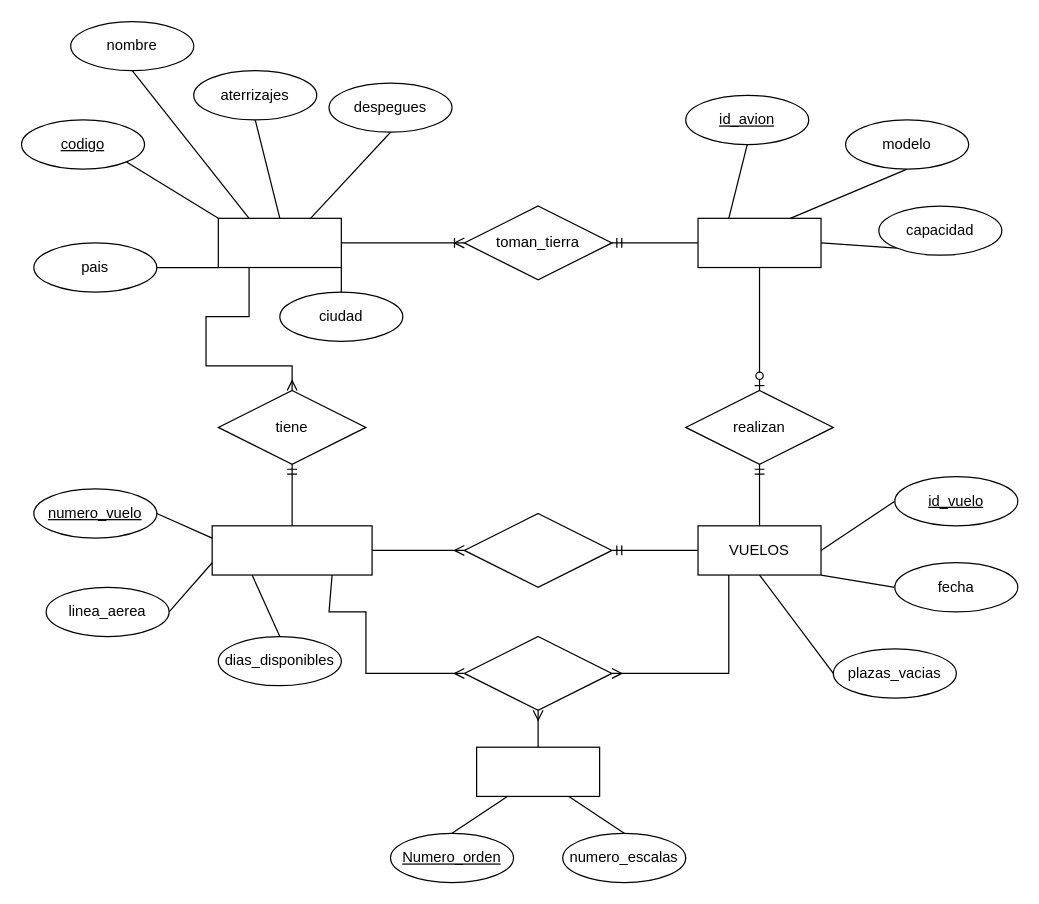
The diagram is 1039 pixels wide and 904 high, and some of its shapes have lost their labels. The centre of each missing label's shape, as x and y in pixels:
"AEROPUERTOS" belongs at pixel 279 242.
"AVIONES" belongs at pixel 759 242.
"escalas_tecnicas" belongs at pixel 537 771.
"incorporan" belongs at pixel 537 672.
"pertenece" belongs at pixel 537 549.
"PROGRAMAS_VUELO" belongs at pixel 291 550.
